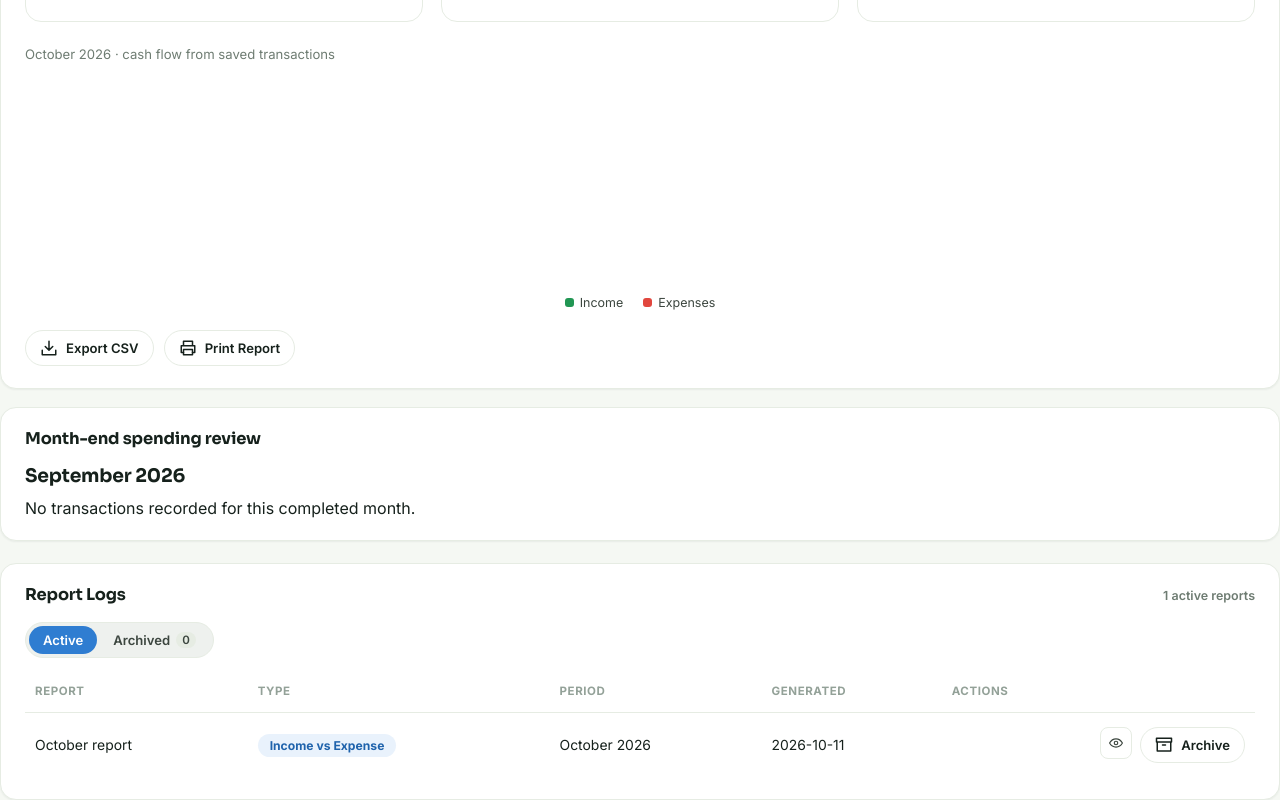
Test: moves a report between active and archived views and restores it
(page scrolled)
What coordinates should you click on to do the following:
click the button with aria-label "Archive October report"
I would click on:
 (1193, 745)
Its box is [1140,727,1245,763].
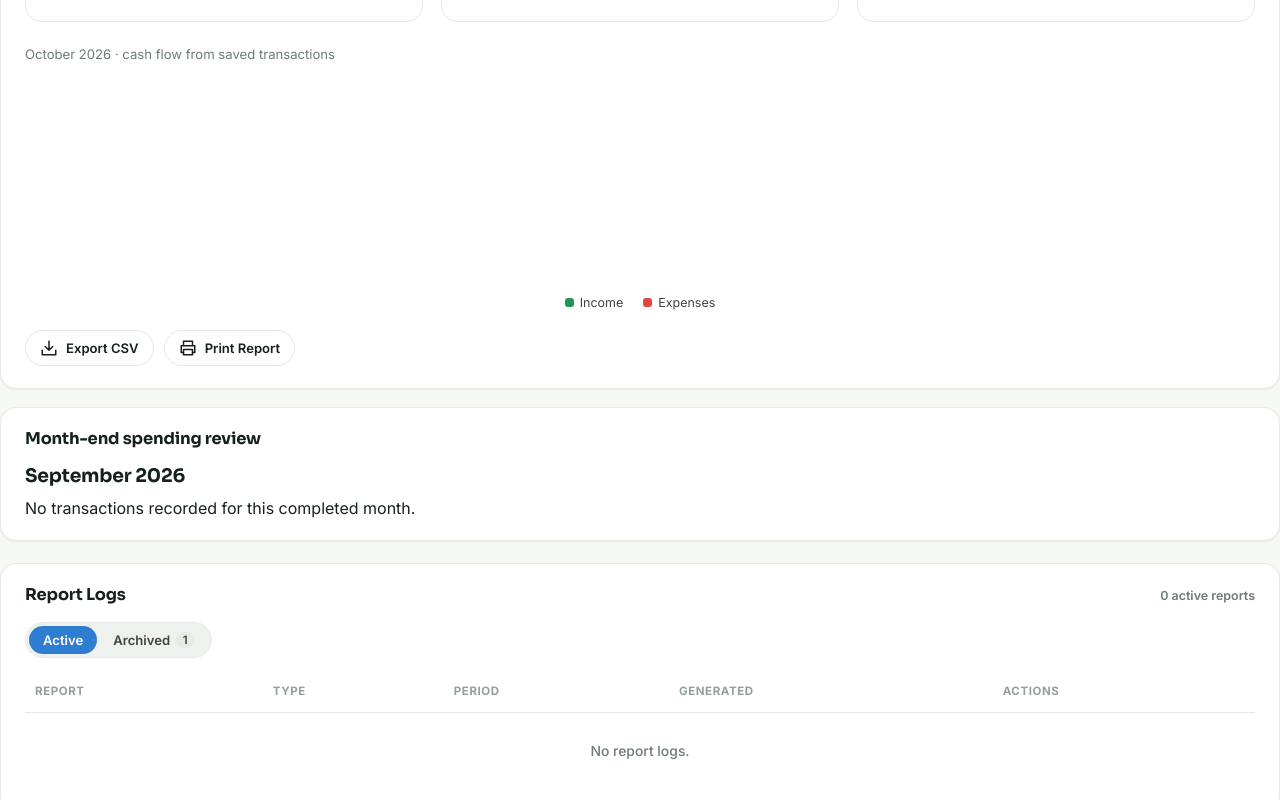
Check: the text "October report" is gone
What coordinates should you click on to do the following:
click the button "Archived 1"
I would click on:
 (154, 640)
Its box is [99,626,208,654].
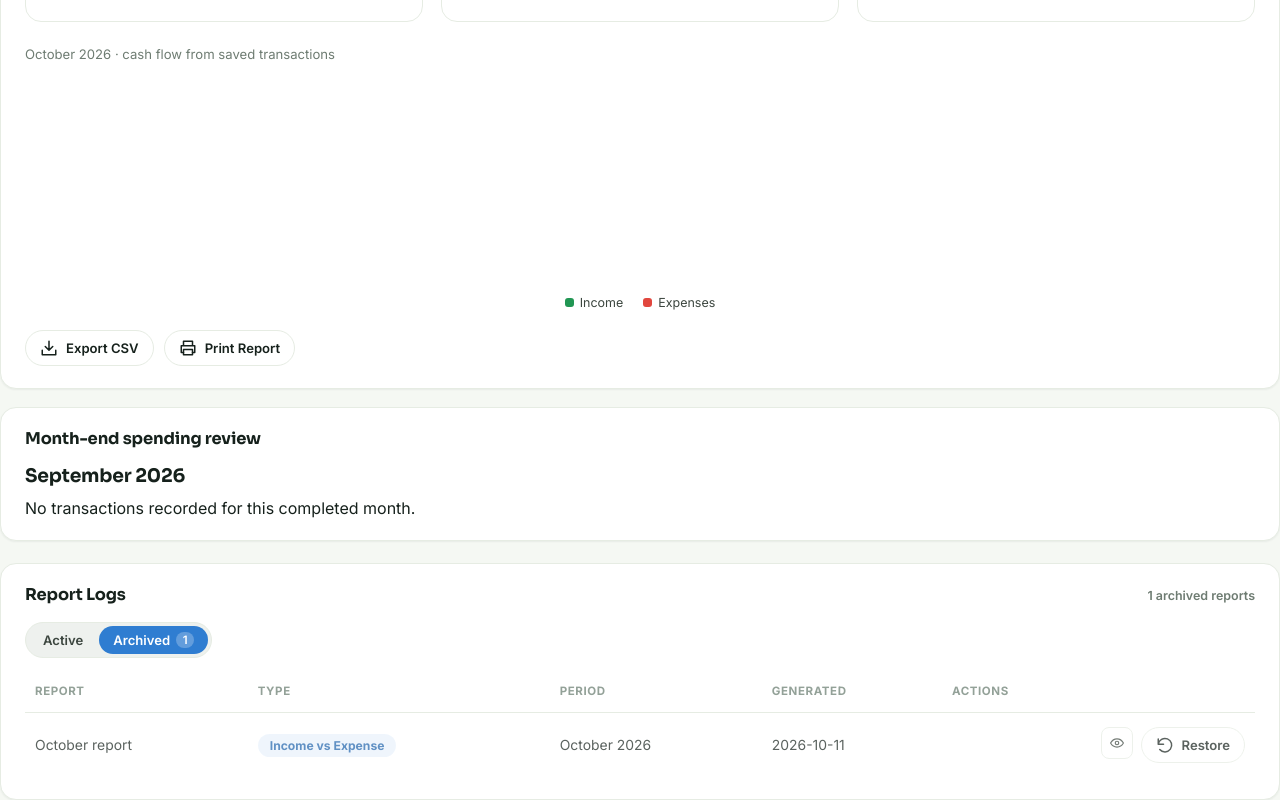
What coordinates should you click on to do the following:
click the button with aria-label "Restore October report"
I would click on:
 (1193, 745)
Its box is [1140,727,1245,763].
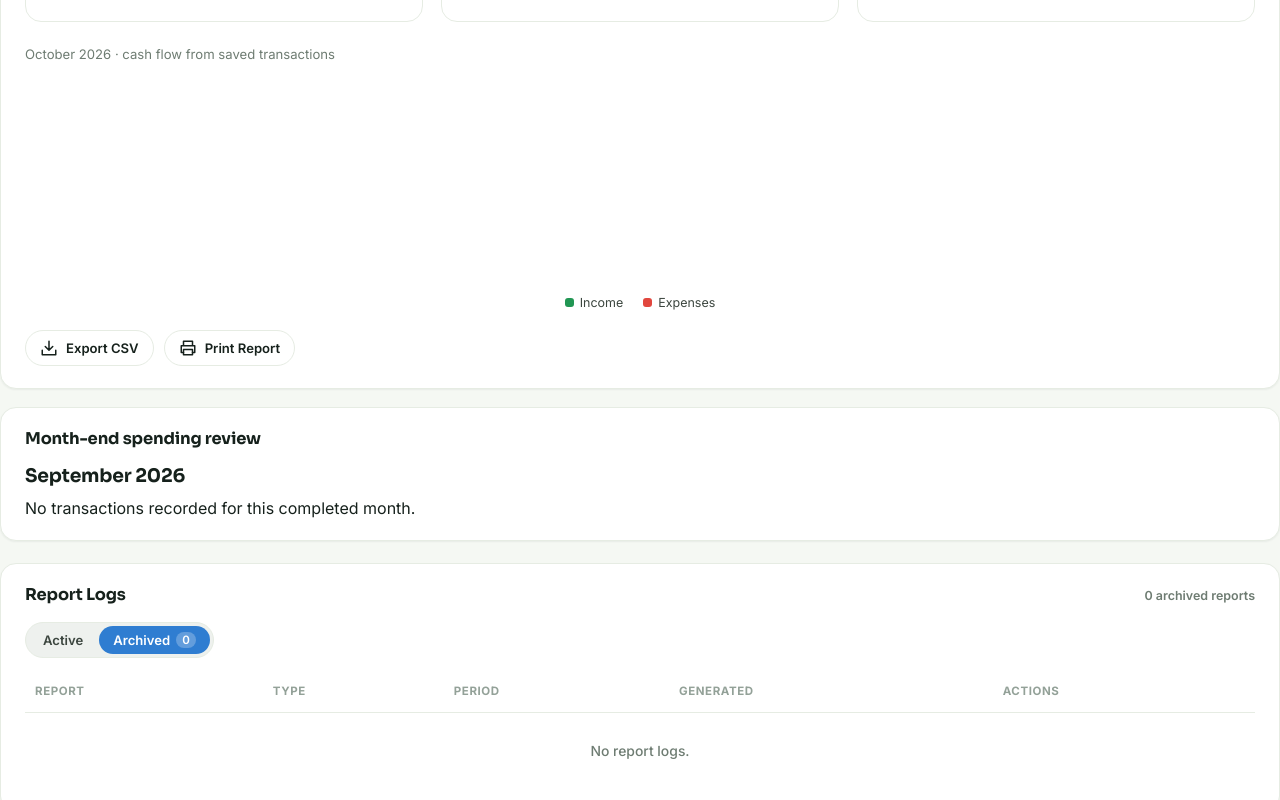
Check: the text "October report" is gone
What coordinates should you click on to do the following:
click the button "Active"
I would click on:
 (63, 640)
Its box is [29,626,97,654].
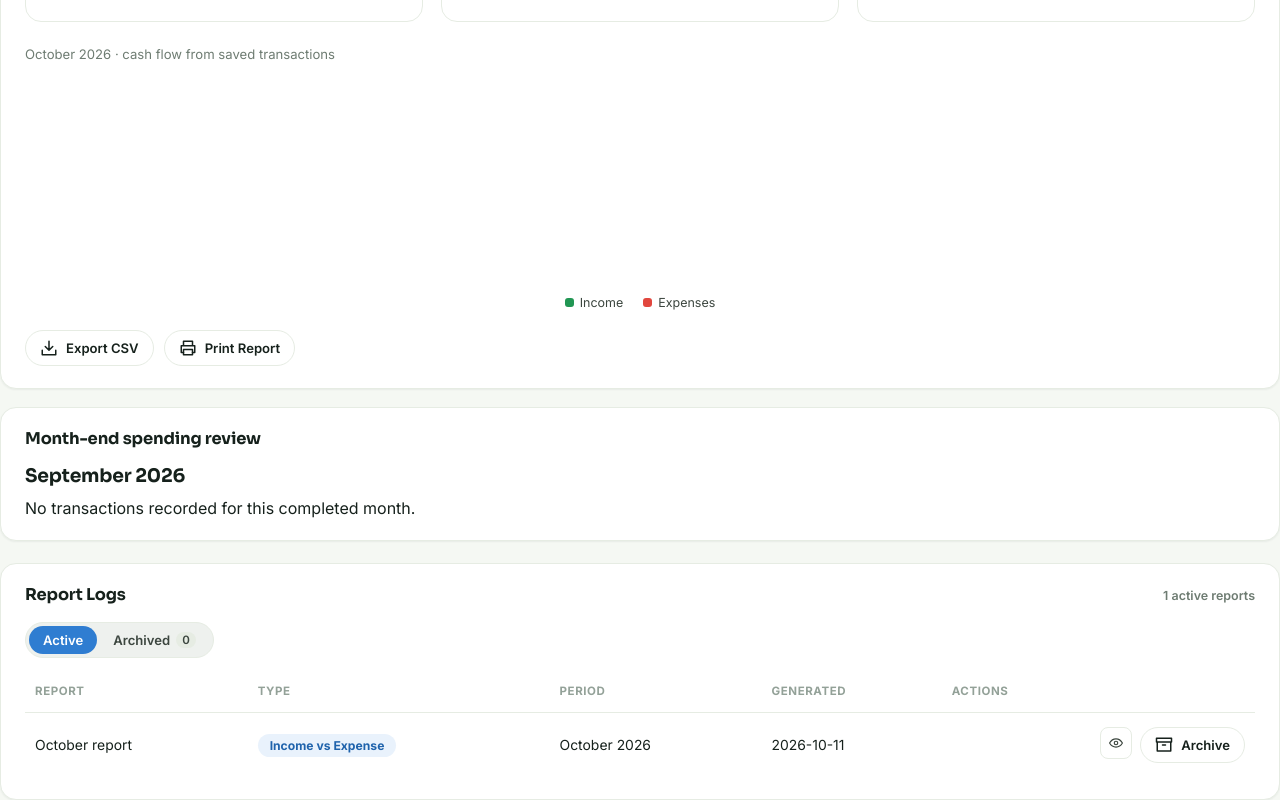
Check: the text "October report" is shown, box [25,713,248,777]
